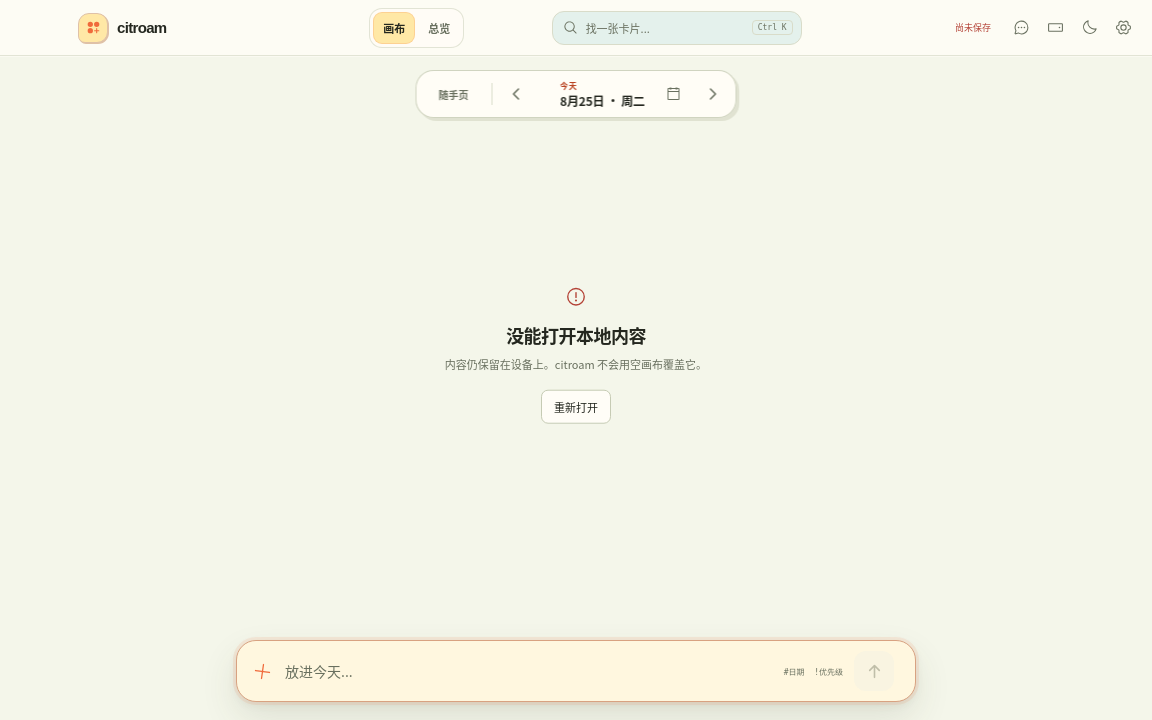
Test: date page canvas › returns to capture after local content is reopened successfully
The width and height of the screenshot is (1152, 720).
Step 1. Click the button named "重新打开本地内容" → {"x": 576, "y": 407}, box [541, 390, 611, 424]
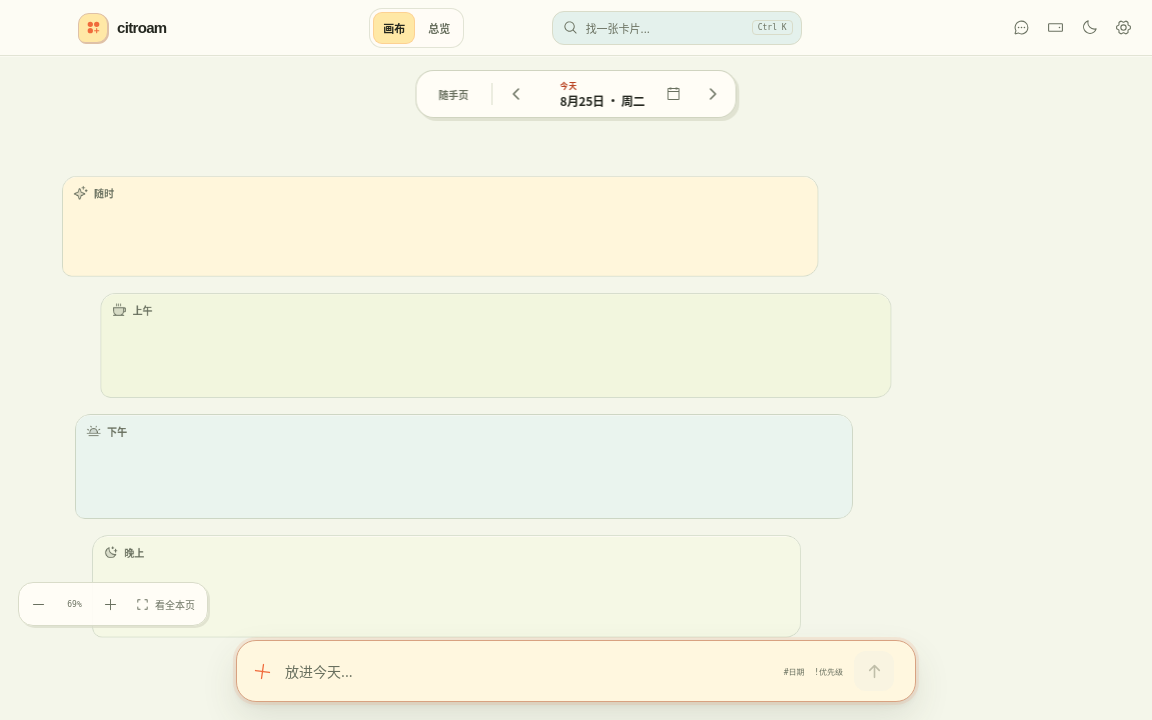
Result: the element named "今天的画布" is shown at [50, 106, 904, 670]
